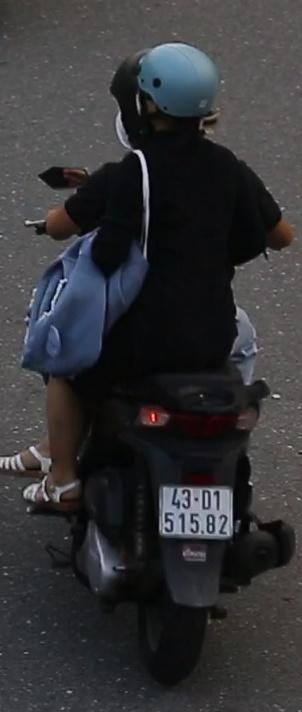LP: (156, 481, 237, 547)
helmet: (135, 37, 226, 151)
